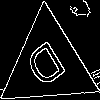D: (23, 39, 73, 98)
